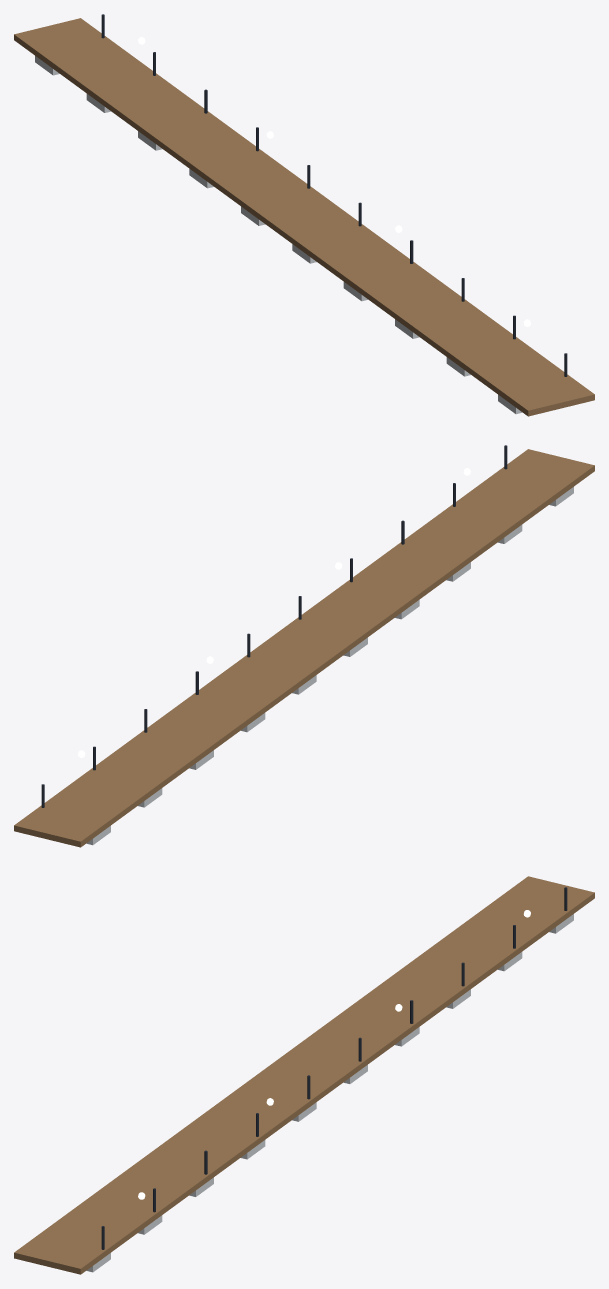
File: pontoon_40m.glb
3 renders of one model, top to bottom at view 1: azimuth 30°, elevation 25°; view 2: azimuth 150°, elevation 25°; view 3: azimuth 330°, elevation 25°, orthographic.
Parts seen in each view (by area): view 1: pontoon; view 2: pontoon; view 3: pontoon.
Part boxes in pixels (left/top/right/bottom): pontoon: left=14, top=14, right=594, bottom=416; pontoon: left=14, top=445, right=594, bottom=847; pontoon: left=14, top=876, right=594, bottom=1274.
Bounding box in the file's own units: 3 × 1.95 × 40.
